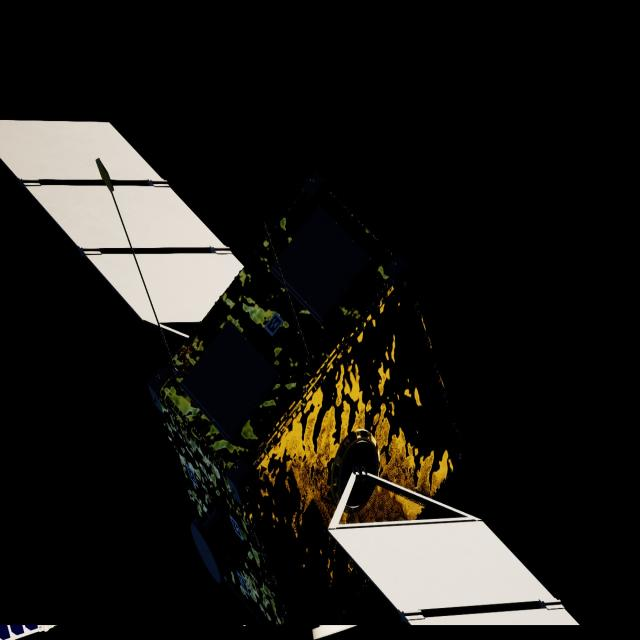satellite: (0, 120, 576, 640)
